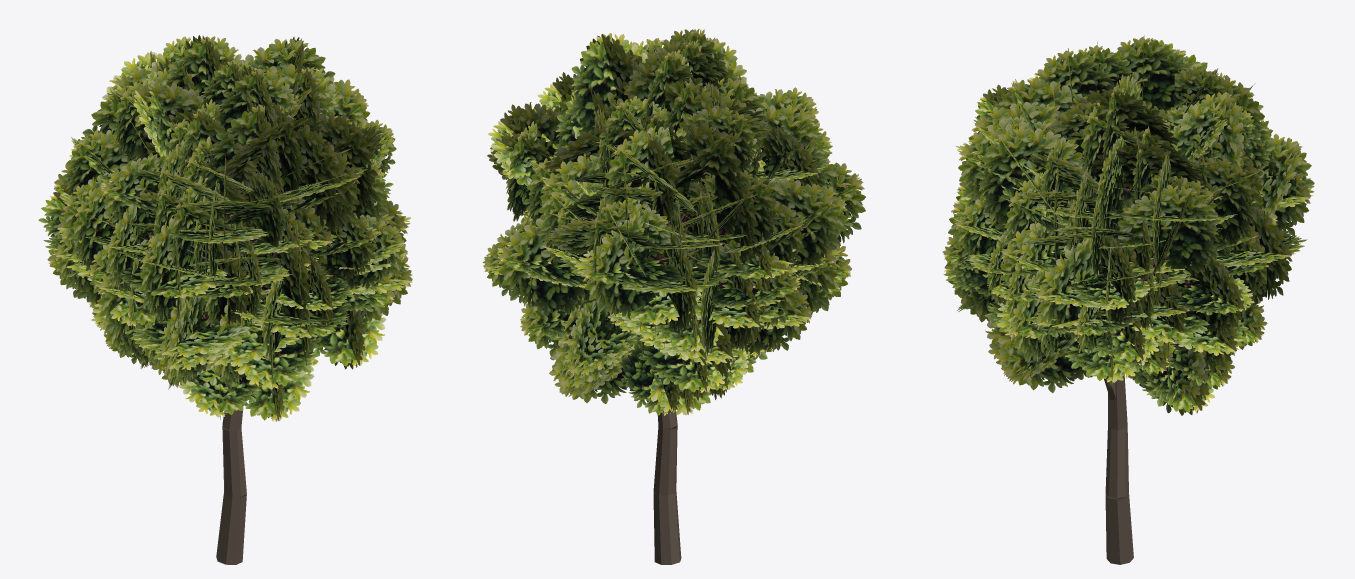
File: category_mesh_tree_0_v1.glb
3 views of the same model, side by side, from view 1: azimuth 30°, elevation 25°; view 2: azimuth 150°, elevation 25°; view 3: azimuth 270°, elevation 25° (orthographic).
Parts seen in each view (by area): view 1: category_mesh_tree_0_v1; view 2: category_mesh_tree_0_v1; view 3: category_mesh_tree_0_v1.
Part boxes in pixels (box(x1,y1,x2,y2)): category_mesh_tree_0_v1: box(38, 35, 412, 564); category_mesh_tree_0_v1: box(482, 29, 865, 564); category_mesh_tree_0_v1: box(942, 35, 1314, 564).
Size of the model in its own units: 11.99 by 16.7 by 12.13.
Materials: 1 (1 with a texture image).
